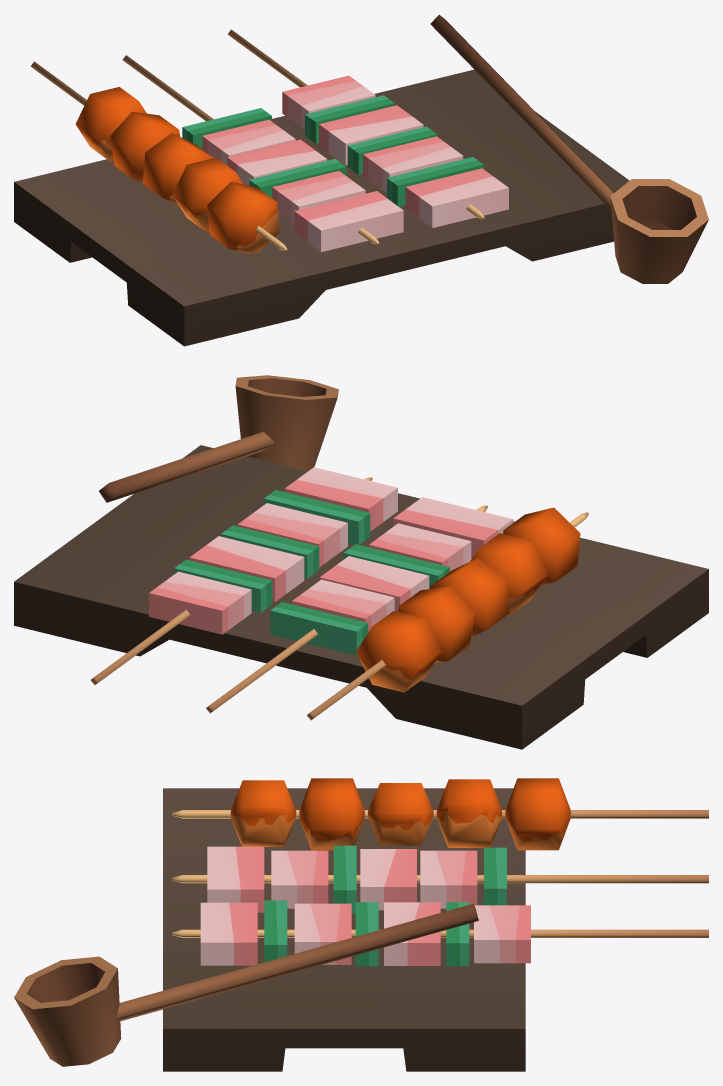
The model's file is SK_Food_005.FBX.
3 renders of one model, top to bottom at view 1: azimuth 30°, elevation 25°; view 2: azimuth 150°, elevation 25°; view 3: azimuth 270°, elevation 25°, orthographic. The views are drawn at different scales.
Parts seen in each view (by area): view 1: SK_Food_005; view 2: SK_Food_005; view 3: SK_Food_005.
Boxes of the visible parts, left/top/right/bottom form: SK_Food_005: left=14, top=14, right=708, bottom=346; SK_Food_005: left=14, top=375, right=708, bottom=749; SK_Food_005: left=14, top=778, right=708, bottom=1071.
Size of the model in its own units: 39.23 by 10.37 by 46.81.
Materials: 1 (1 with a texture image).
